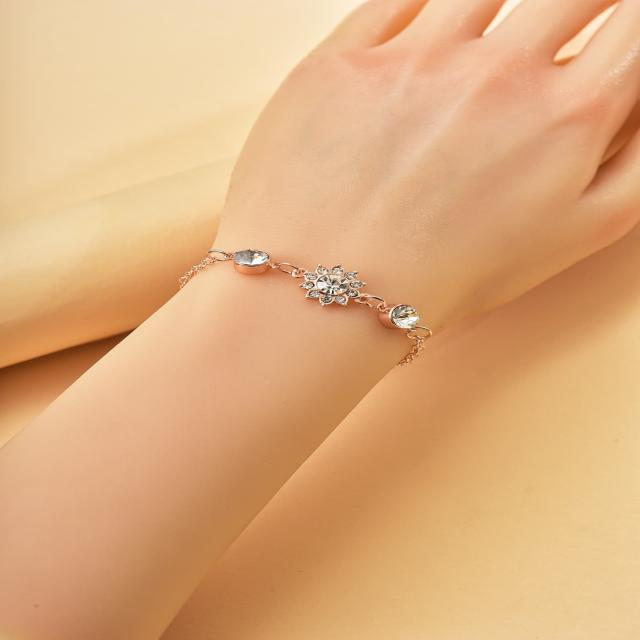bracelet: (113, 112, 460, 429)
